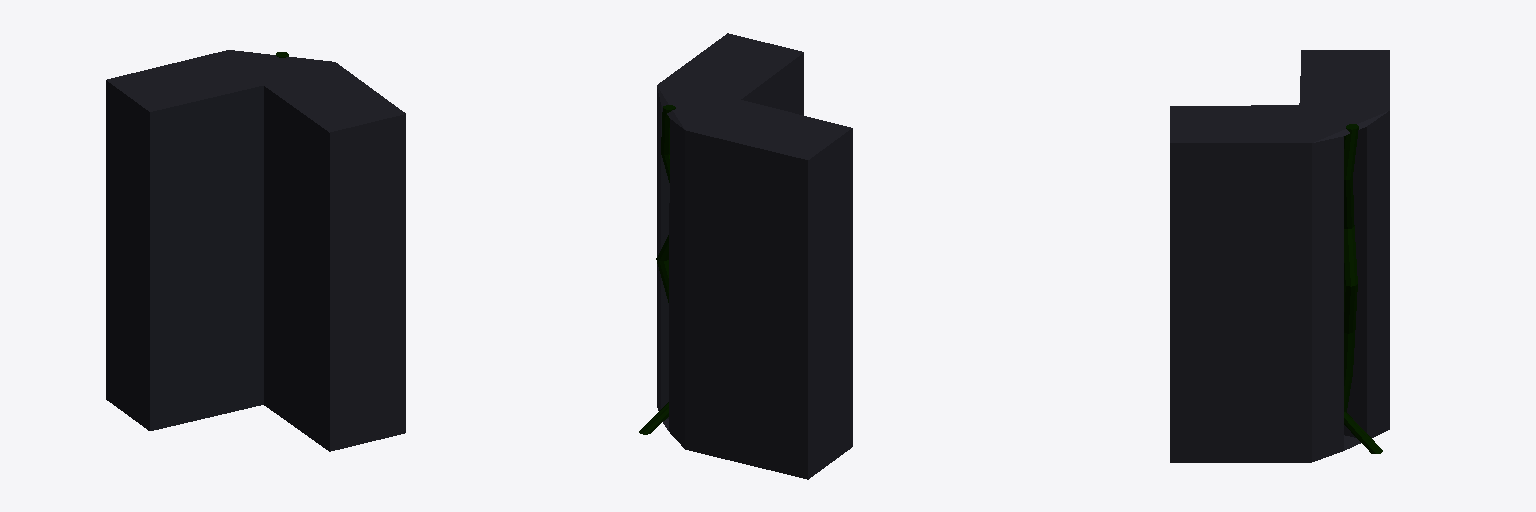
Rendered from Wall_corner.obj.
3 views of the same model, side by side, from view 1: azimuth 30°, elevation 25°; view 2: azimuth 150°, elevation 25°; view 3: azimuth 270°, elevation 25° (orthographic).
Parts seen in each view (by area): view 1: Cube; view 2: Cube, Cube.003; view 3: Cube, Cube.003.
Boxes of the visible parts, x1,y1,x2,y2 form: Cube: [106, 50, 405, 451]; Cube: [657, 33, 852, 479]; Cube.003: [639, 105, 675, 434]; Cube: [1170, 50, 1389, 462]; Cube.003: [1344, 124, 1382, 453].
Bounding box in the file's own units: 2.5 × 4.01 × 2.5.